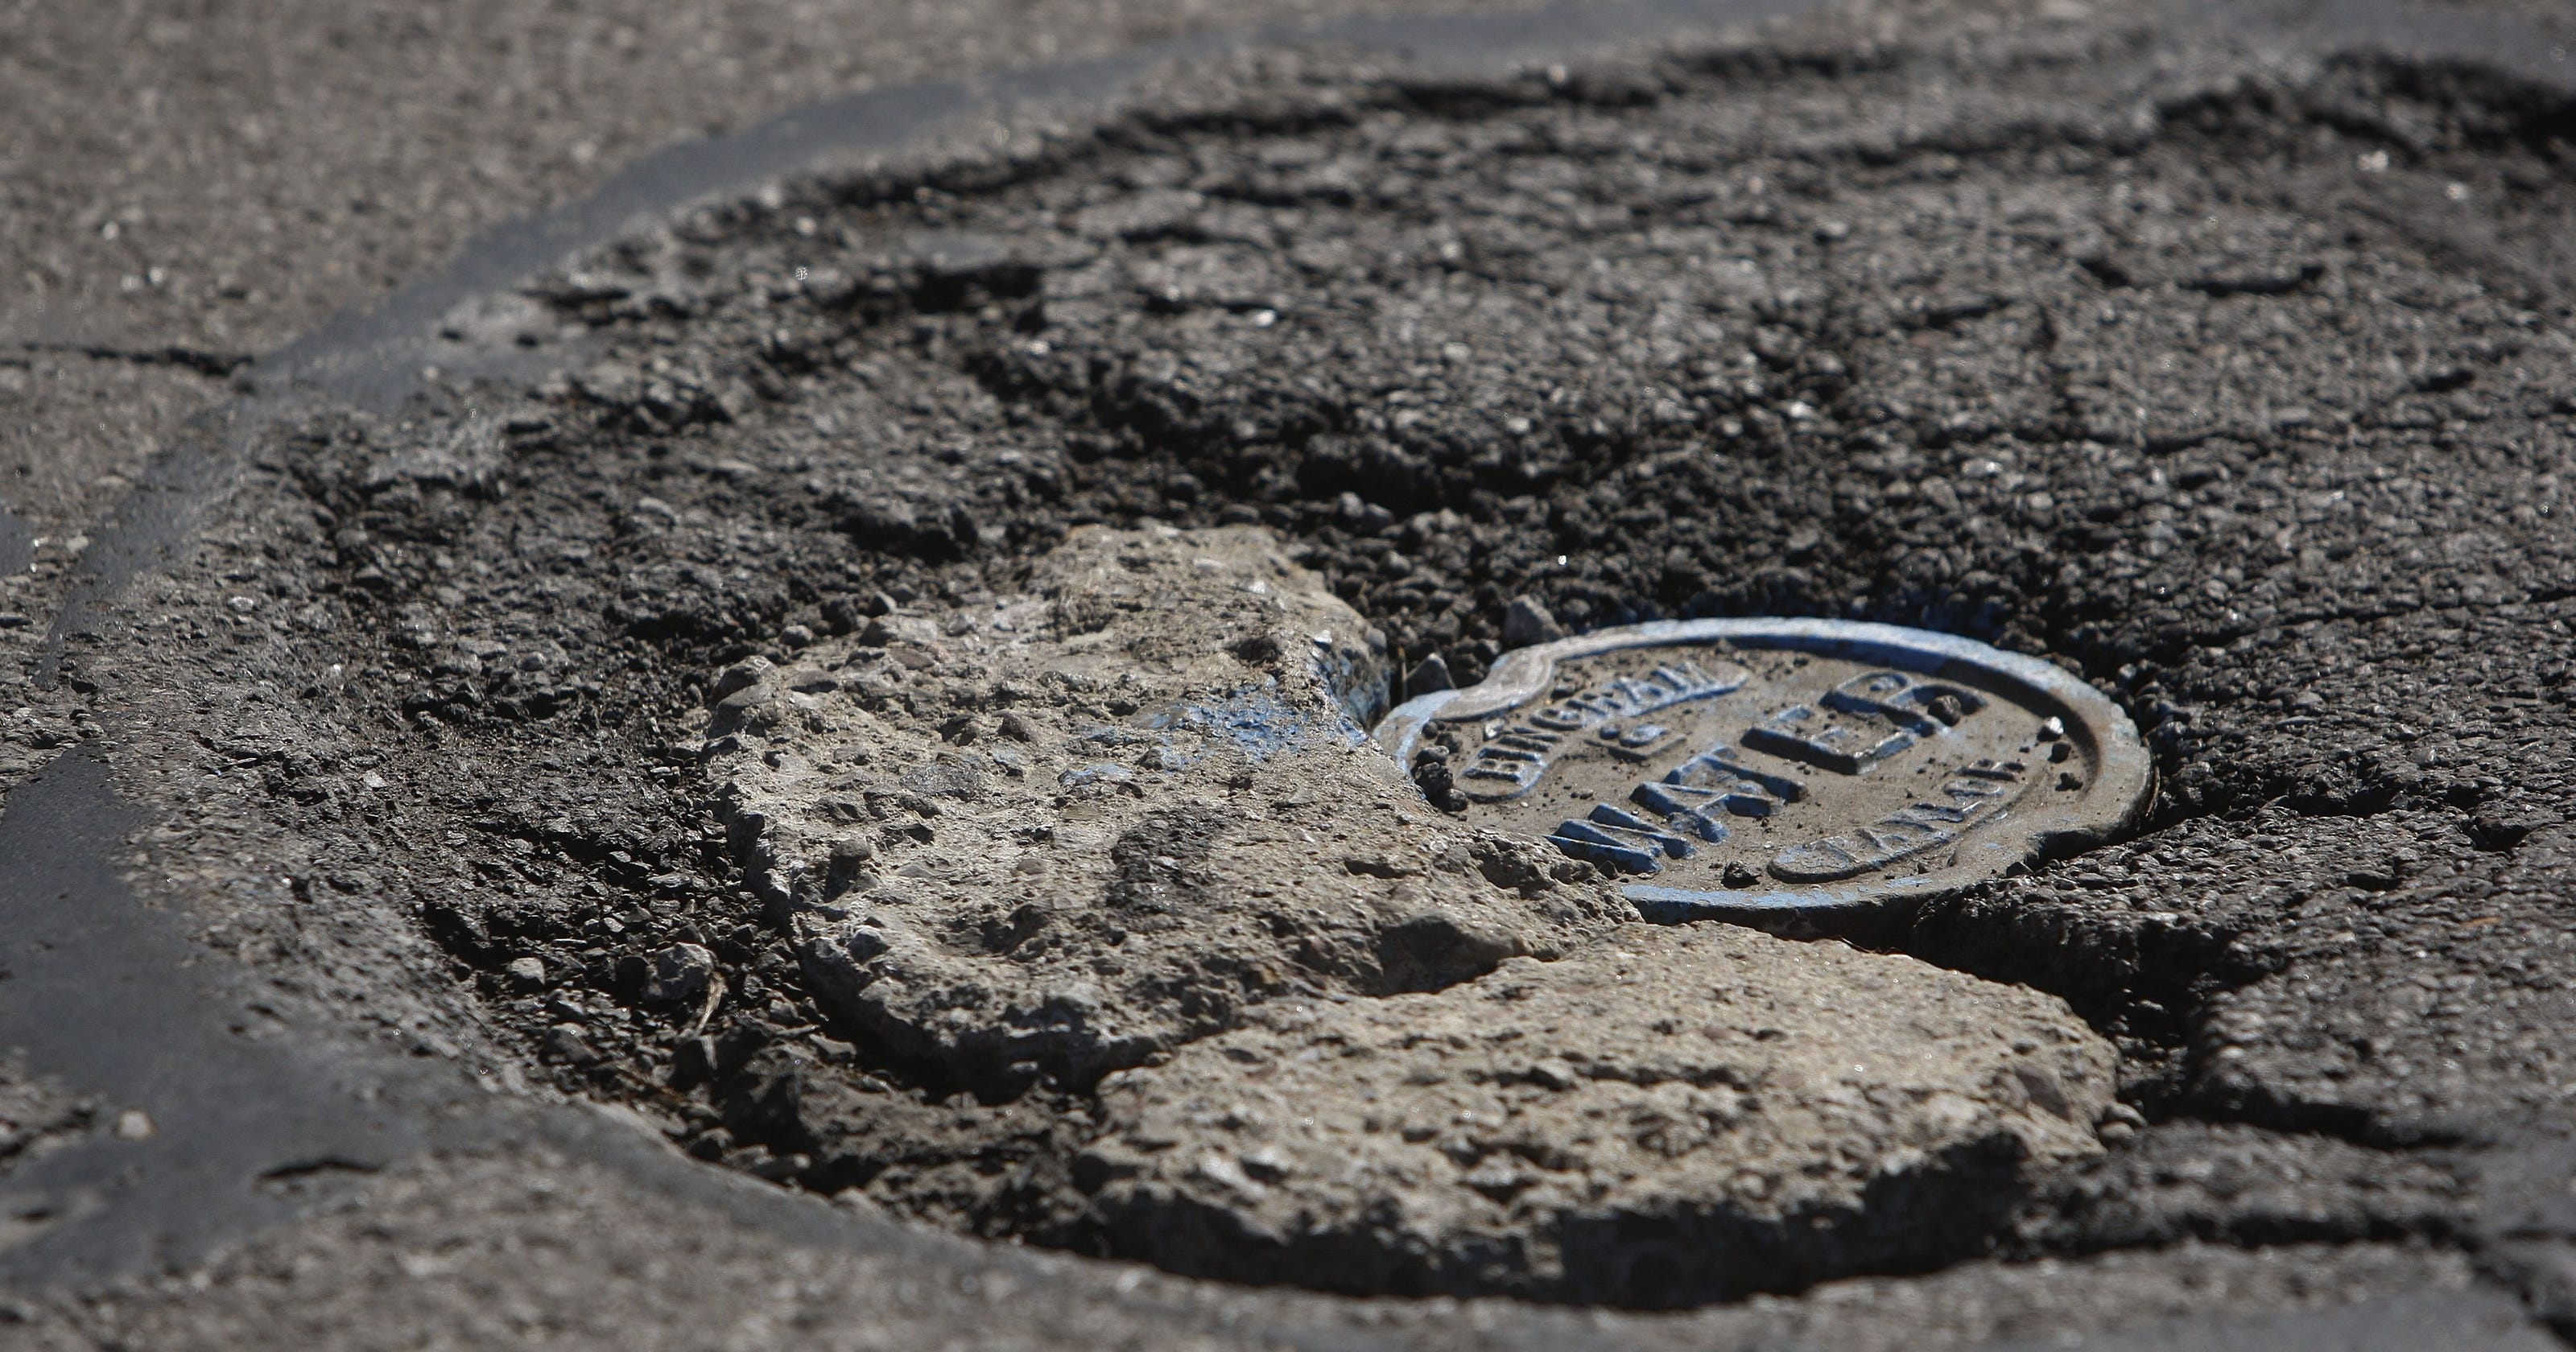pothole: (443, 237, 1426, 1091)
